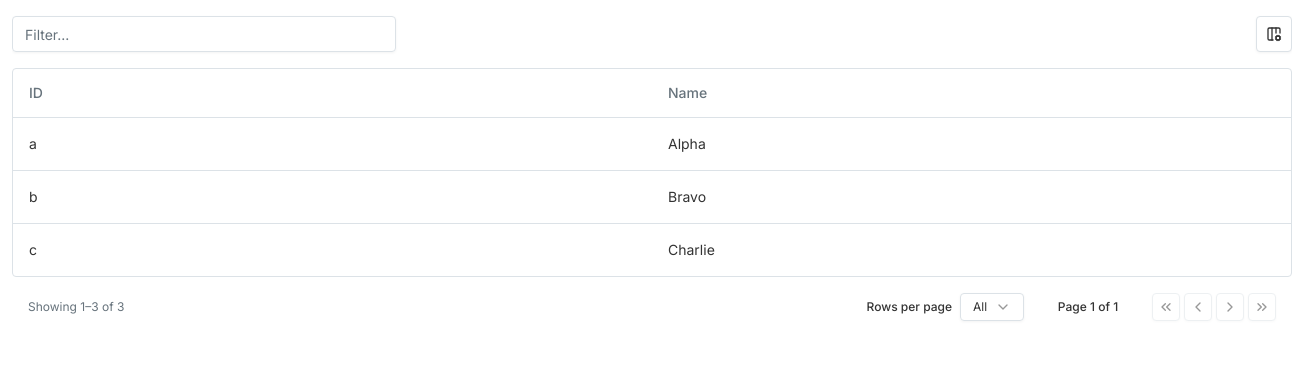
DataTable — empty results › renders a filter-empty Empty block ("No <entity> match …") when `entityName` is set and a filter is active
Note: No row in ROWS has the substring "ZZZZZZ" — guarantees an empty subset.
Type "ZZZZZZ" into the field with placeholder "Filter...".
click(204, 34); type("ZZZZZZ")  # box [13, 16, 395, 52]
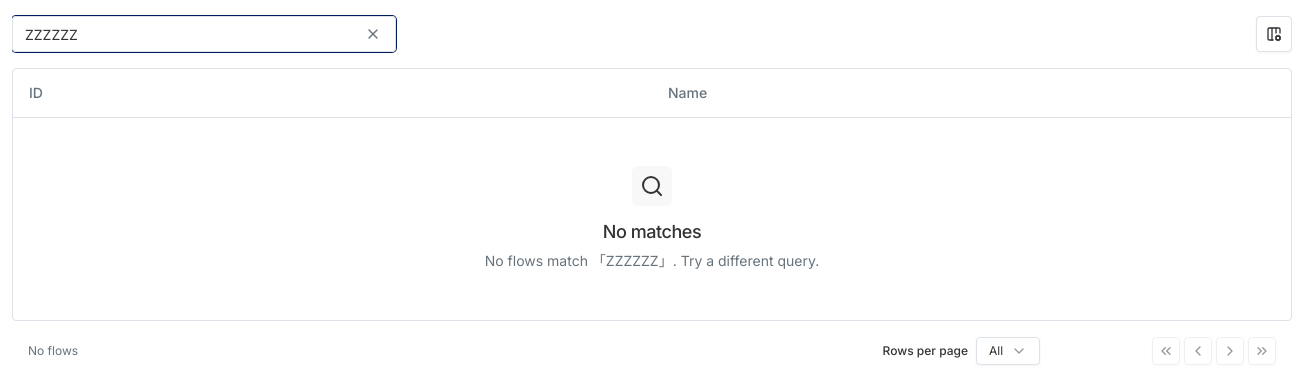
Now the text "No matches" is shown, box [603, 218, 701, 246]
